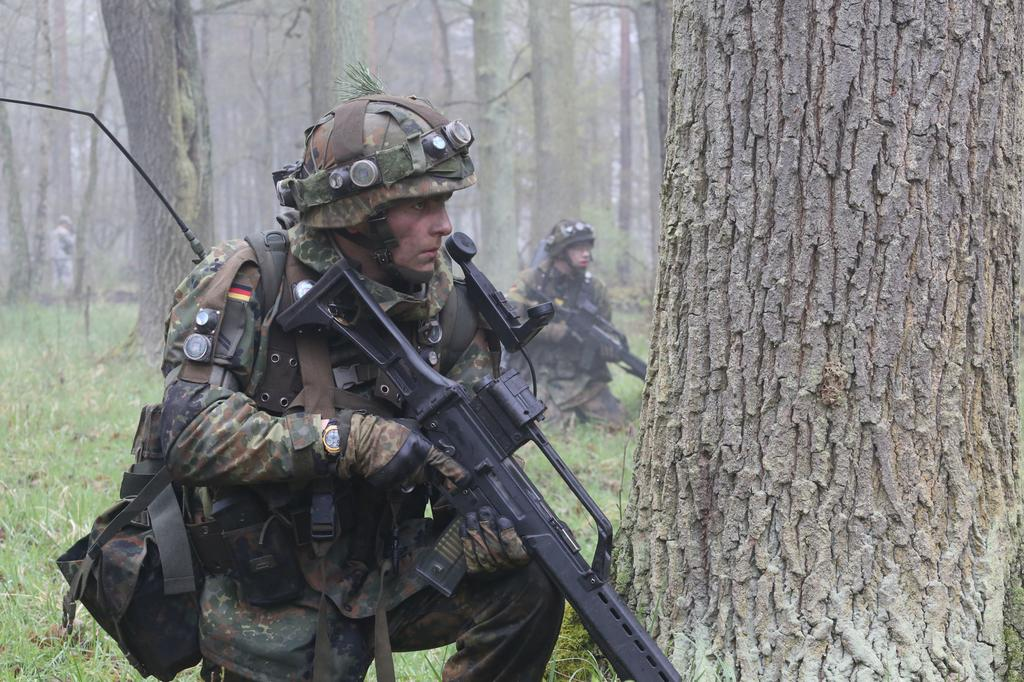non-violence: (154, 94, 579, 680), (484, 225, 634, 441), (42, 209, 75, 296)
weapon: (271, 230, 688, 678), (537, 291, 650, 371)
